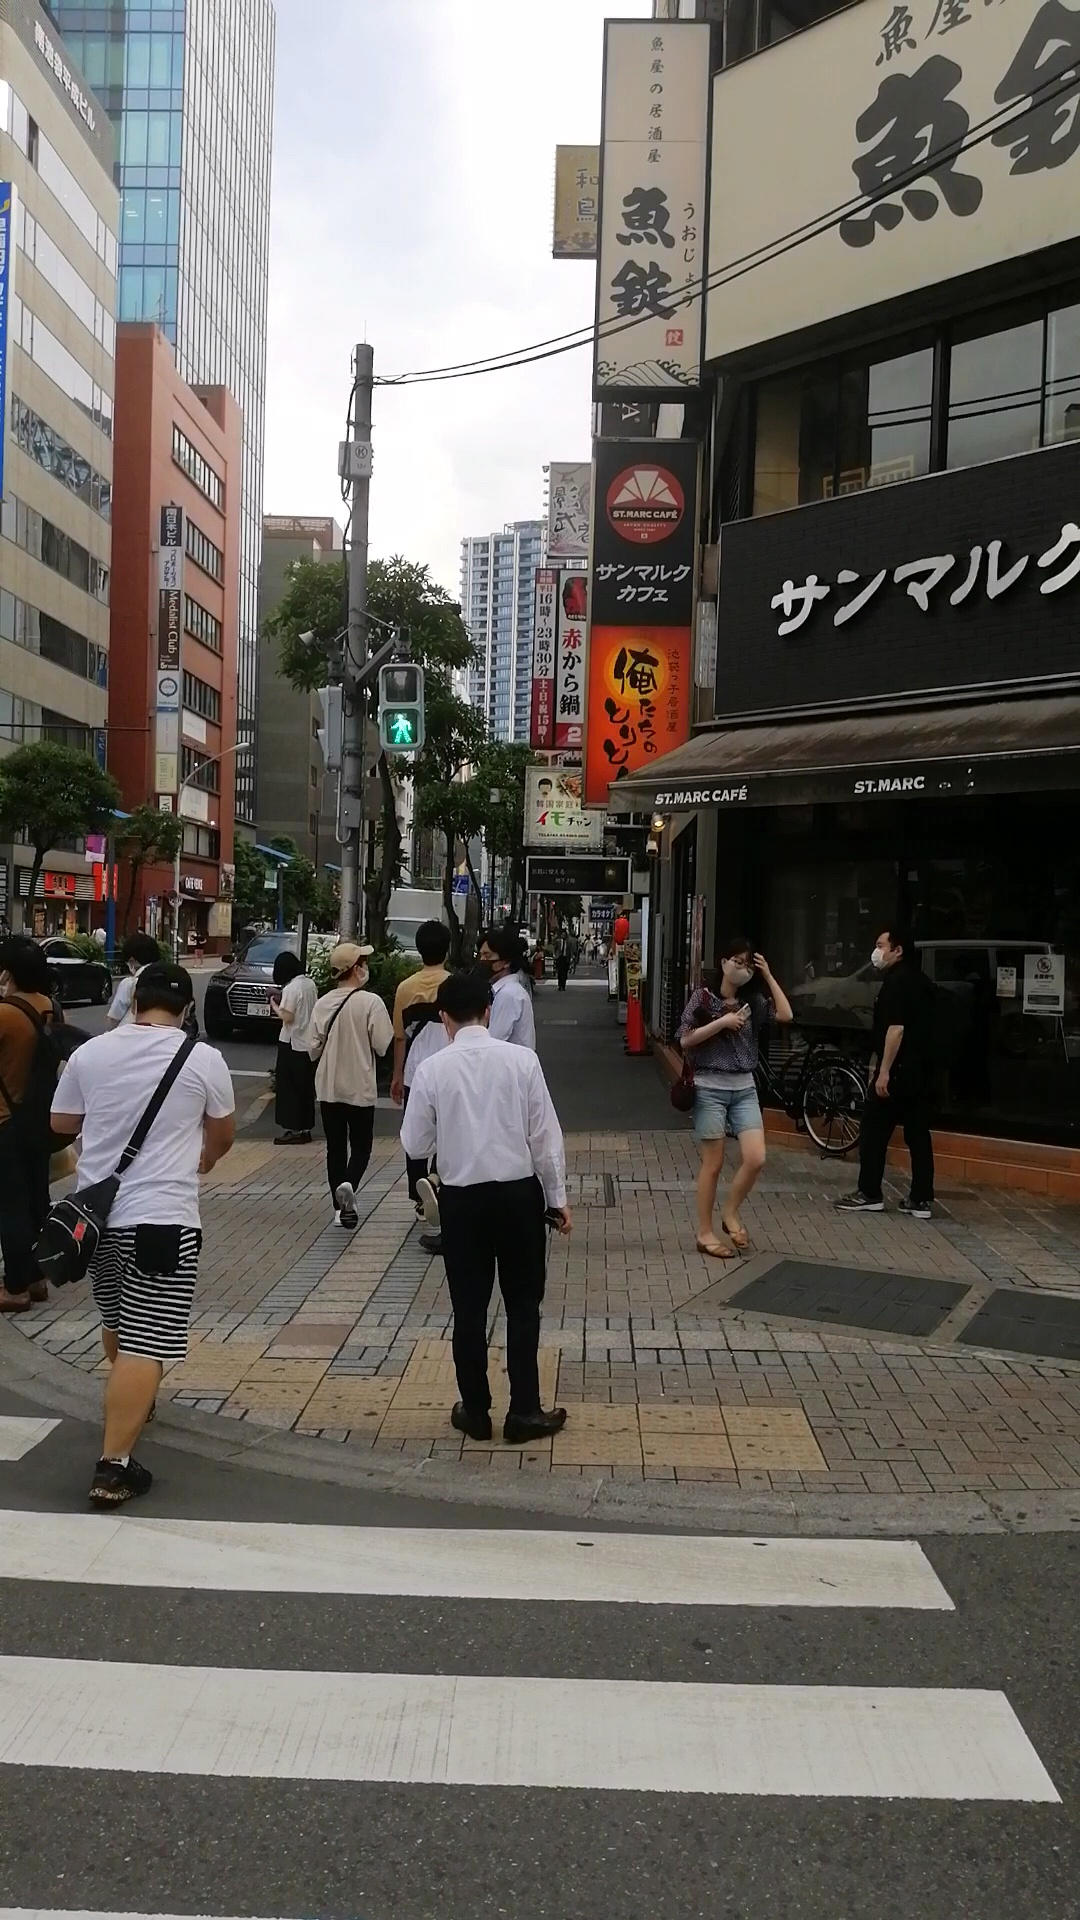green: (375, 665, 425, 752)
